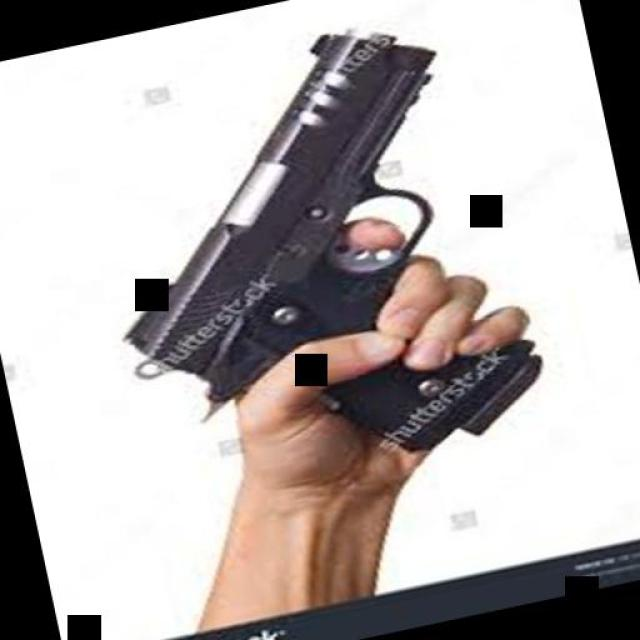gun: (61, 0, 558, 516)
